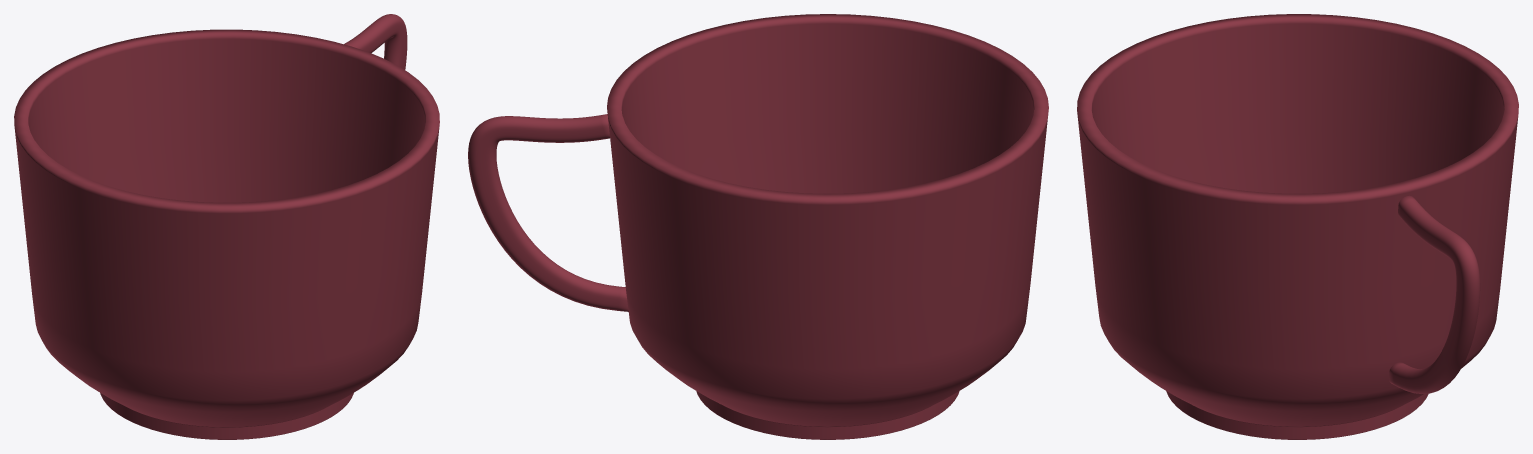
File: cup-red.glb
3 views of the same model, side by side, from view 1: azimuth 30°, elevation 25°; view 2: azimuth 150°, elevation 25°; view 3: azimuth 270°, elevation 25° (orthographic). The views are drawn at different scales.
Parts seen in each view (by area): view 1: Sphere.002; view 2: Sphere.002; view 3: Sphere.002.
Part boxes in pixels (x1=…): Sphere.002: x1=14, y1=14, x2=439, y2=439; Sphere.002: x1=468, y1=14, x2=1048, y2=439; Sphere.002: x1=1077, y1=14, x2=1518, y2=439.
Bounding box in the file's own units: 0.1758 × 0.1005 × 0.1452.
